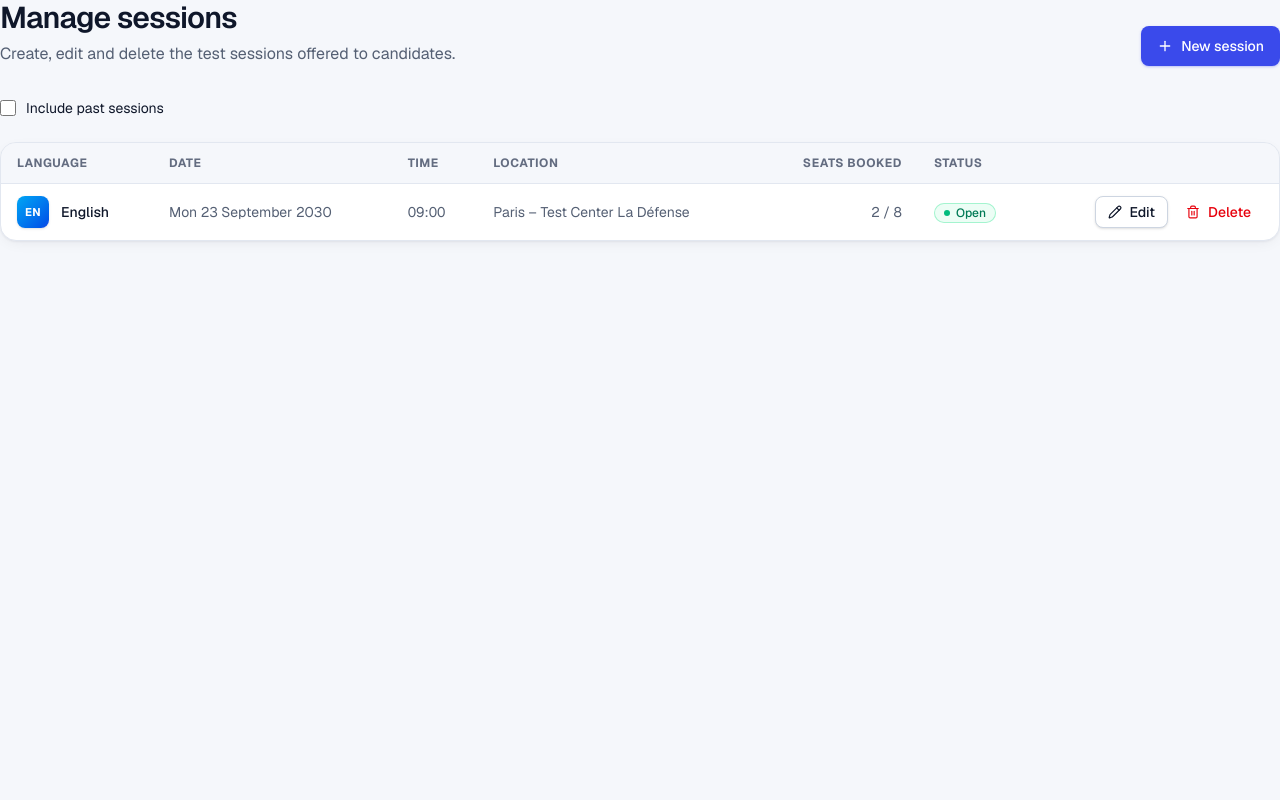
Test: AdminSessionsScreen › deletes a session after confirmation
Click the button named "Delete English": (1218, 212) [1174,196,1263,228]
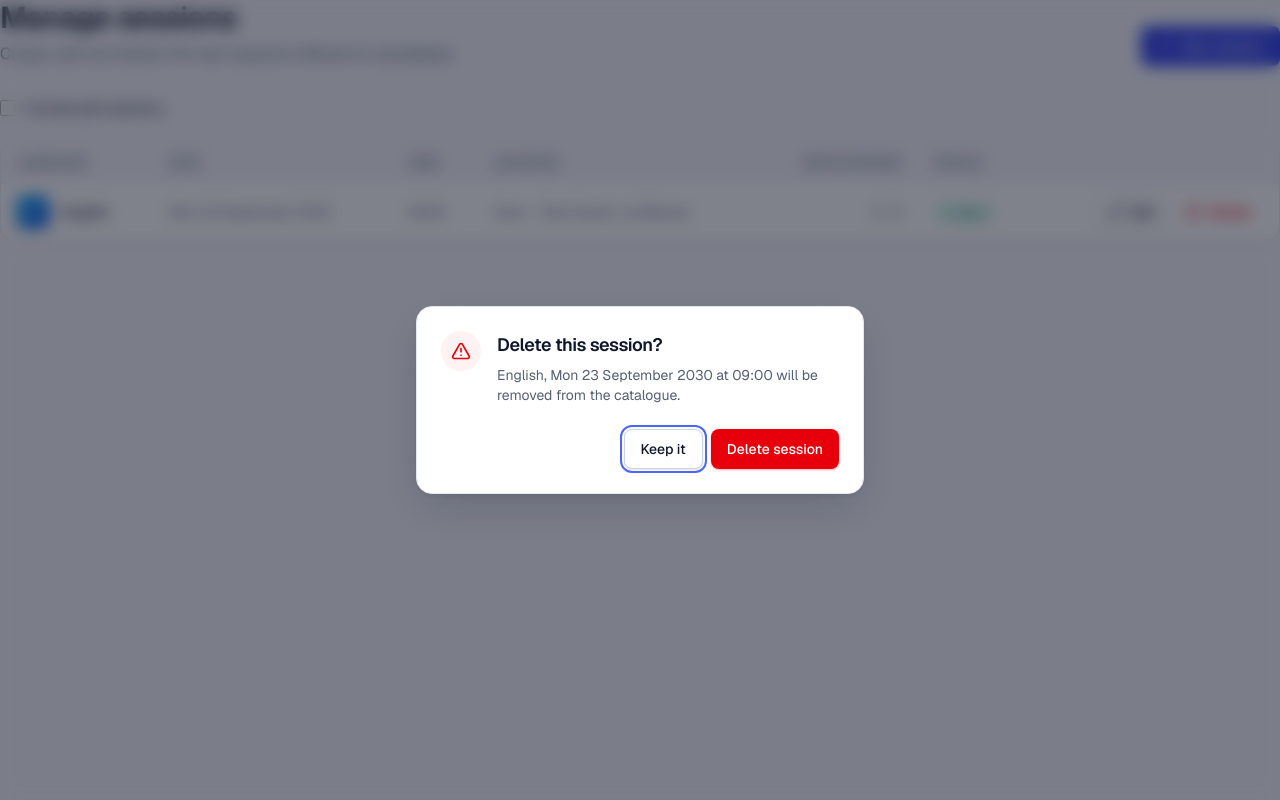
Click the button "Delete session": (775, 449) [711,429,839,469]
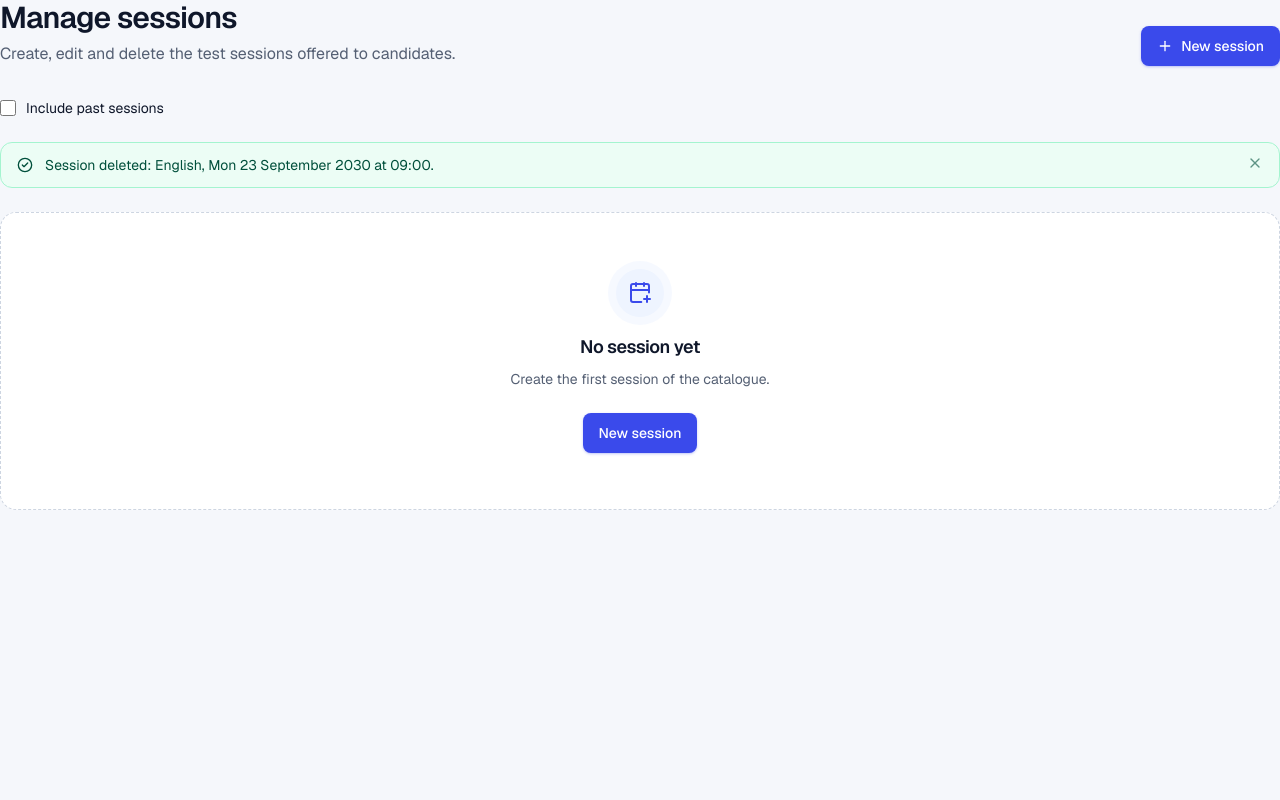
expect the text "Session deleted: English, Mon 23 September 2030 at 09:00." is shown: met, box [45,156,434,174]
expect the heading "No session yet" is shown: met, box [580,333,700,361]
